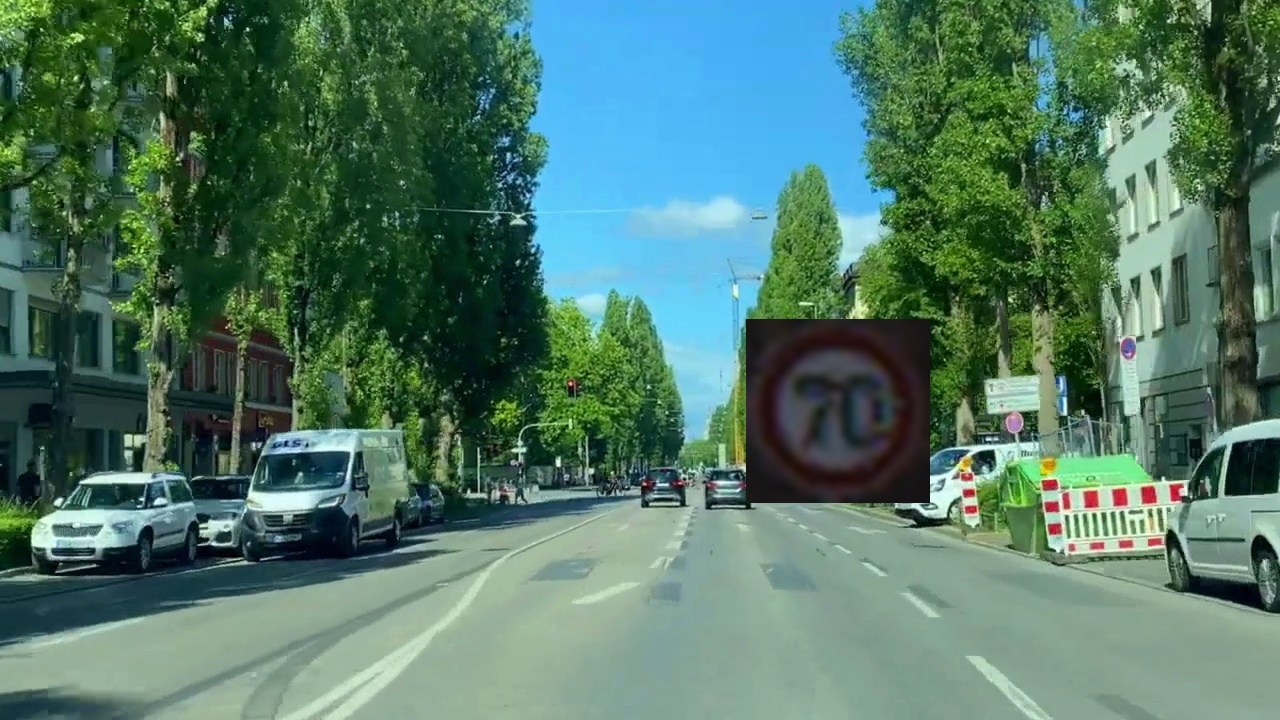Speed 70: (746, 319, 930, 503)
